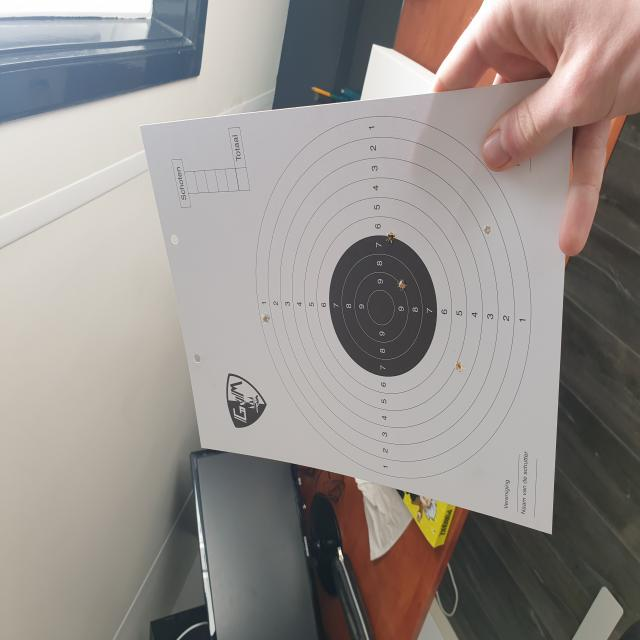1: (261, 312, 270, 324)
2: (482, 224, 492, 236)
5: (453, 362, 466, 374)
7: (385, 230, 396, 244)
9: (397, 280, 407, 292)
Target: (254, 115, 532, 478)
black_contour: (329, 236, 437, 376)
